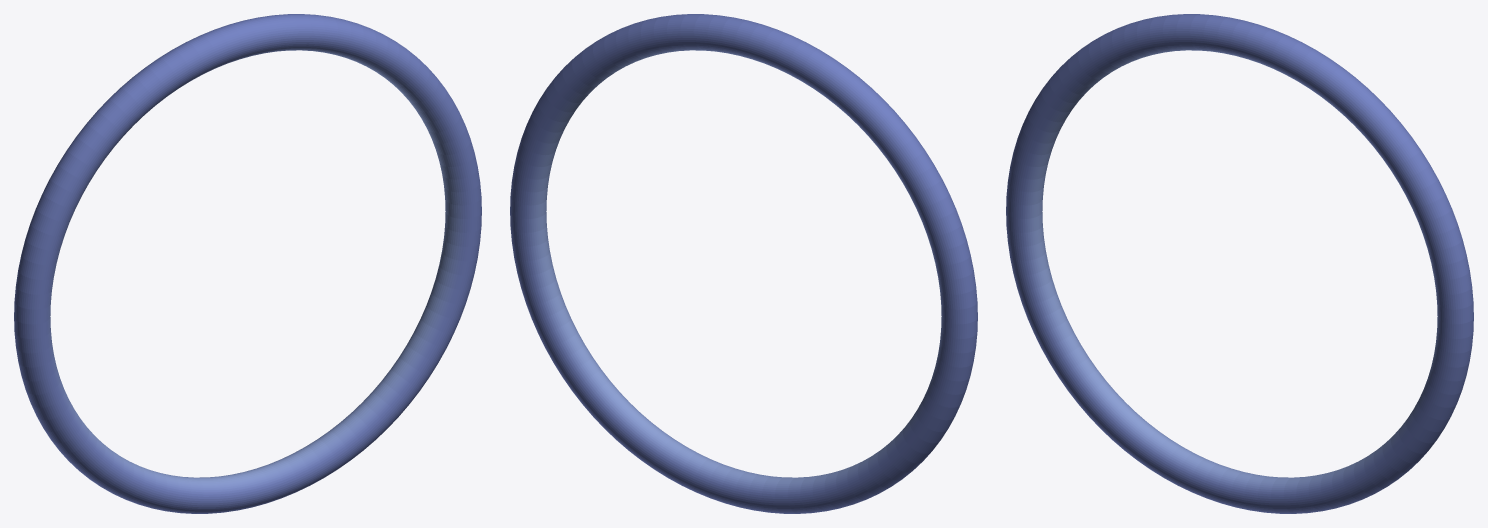
The picture shows the model from 3 angles, left to right: view 1: azimuth 30°, elevation 25°; view 2: azimuth 150°, elevation 25°; view 3: azimuth 330°, elevation 25°; orthographic projection.
Visible parts, largest first — view 1: world; view 2: world; view 3: world.
Boxes of the visible parts, <box> form: world: <box>14,14,481,513</box>; world: <box>510,14,977,513</box>; world: <box>1006,14,1473,513</box>.
Size of the model in its own units: 29.33 by 29.33 by 2.
